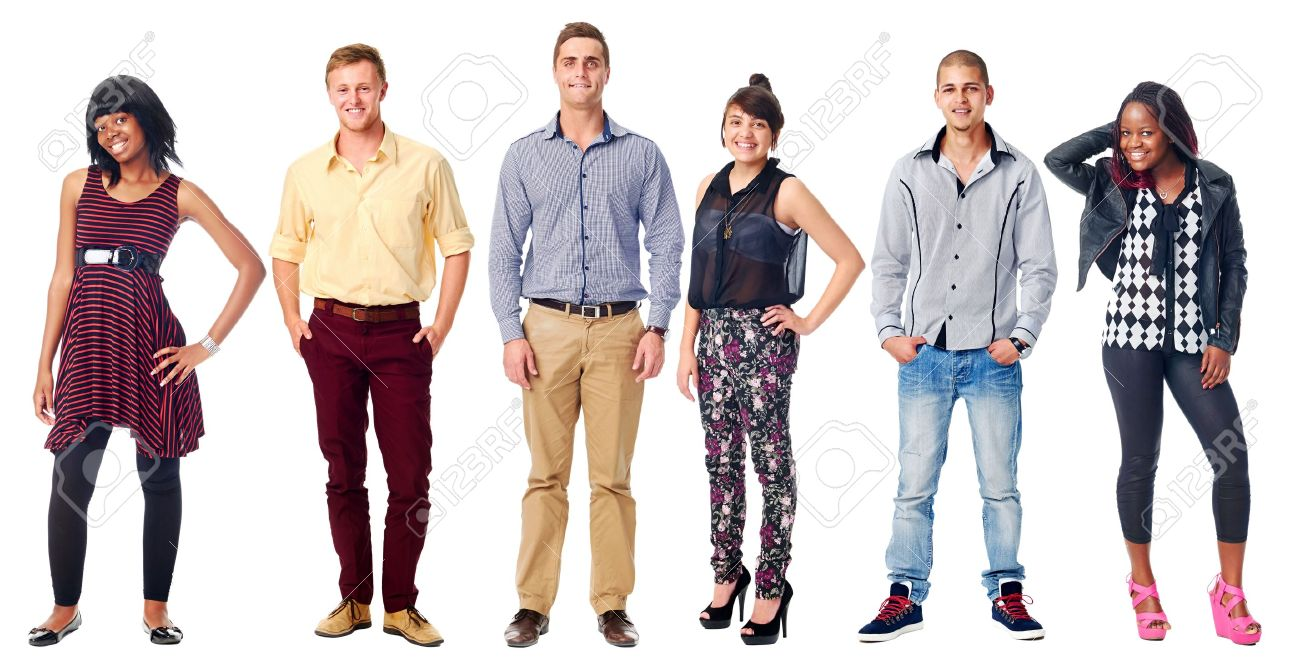person: (1046, 59, 1278, 659), (41, 59, 268, 667), (280, 46, 475, 667), (496, 15, 672, 665), (876, 50, 1066, 646), (700, 73, 850, 654)
